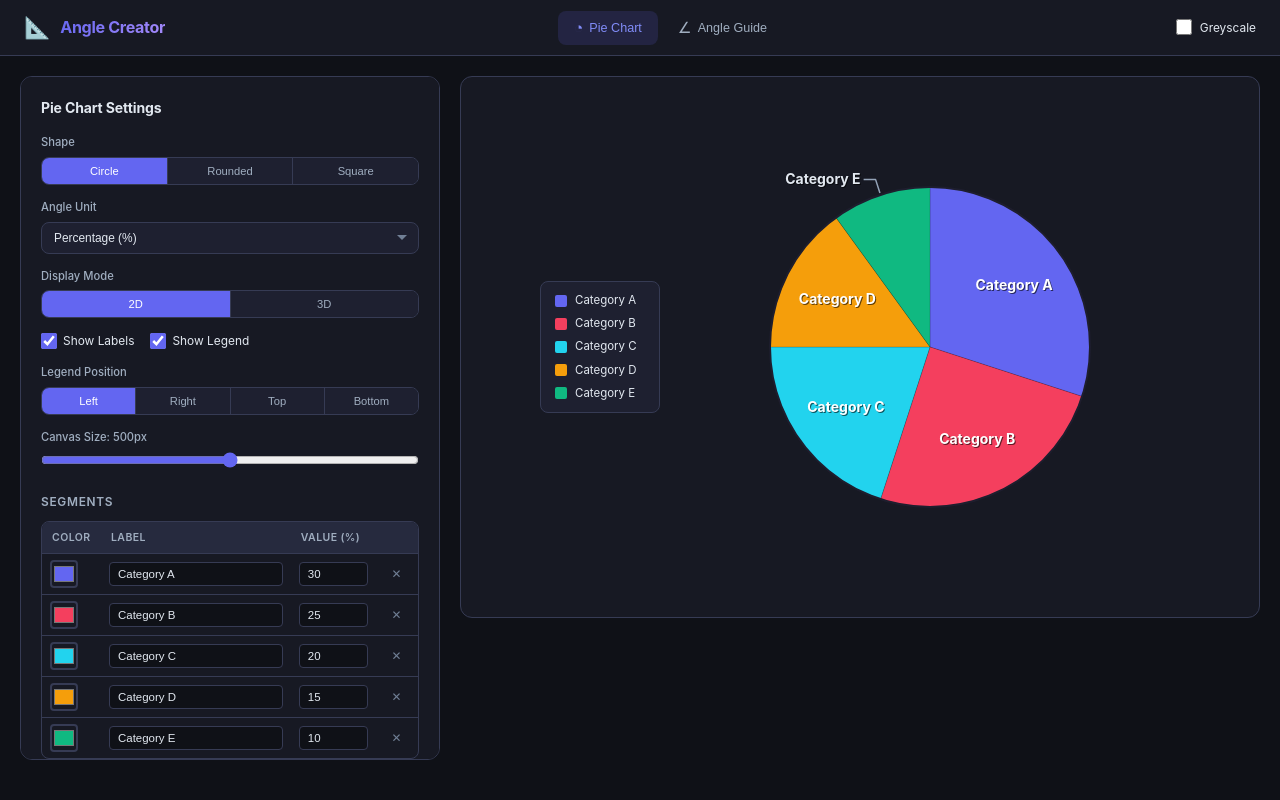
Test case: App › switches to Angle Guide tab when clicked
What coordinates should you click on to do the following:
click the button "∠ Angle Guide"
I would click on:
 (722, 28)
Its box is x1=662 y1=10 x2=783 y2=44.
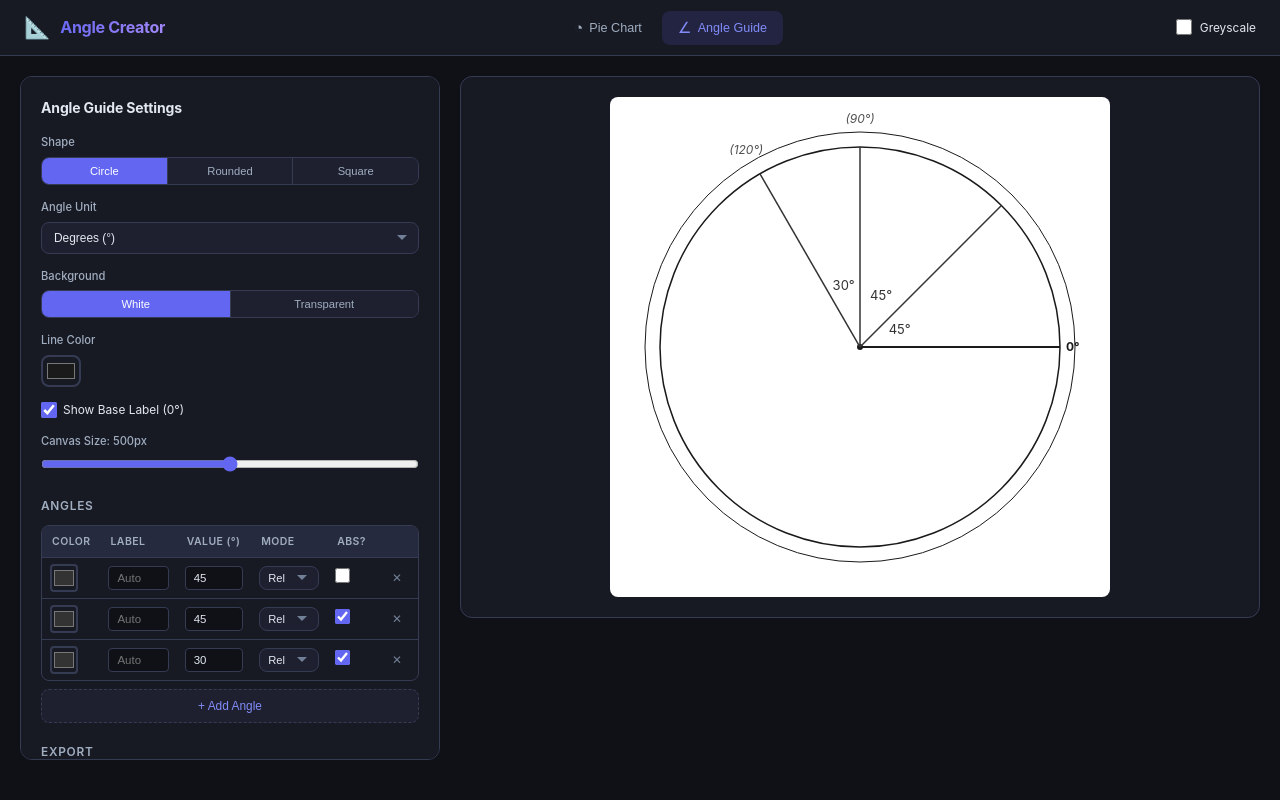
Result: the heading "Angle Guide Settings" is shown at x1=41 y1=99 x2=182 y2=116
